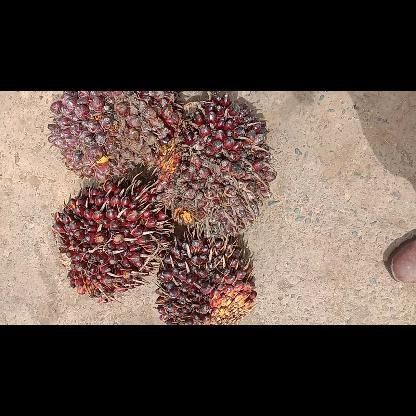Kurang masak: (153, 92, 278, 248), (48, 173, 178, 302)
TBS mentah: (43, 92, 185, 184), (150, 226, 260, 324)
